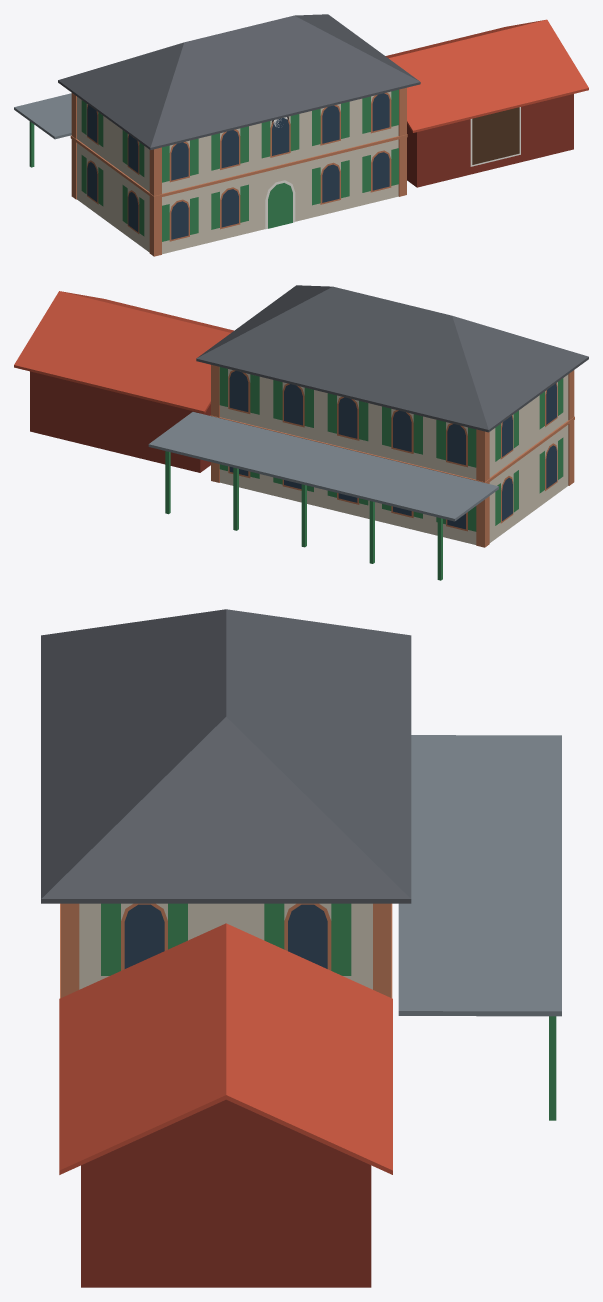
Rendered from gare_village.glb.
3 renders of one model, top to bottom at view 1: azimuth 30°, elevation 25°; view 2: azimuth 150°, elevation 25°; view 3: azimuth 270°, elevation 25°, orthographic. The views are drawn at different scales.
Visible parts, largest first — view 1: gare_village; view 2: gare_village; view 3: gare_village.
Part boxes in pixels (bbox=[...]): gare_village: bbox=[14, 14, 588, 256]; gare_village: bbox=[14, 285, 588, 580]; gare_village: bbox=[41, 609, 561, 1287].
Size of the model in its own units: 28.6 by 10.14 by 14.35.
Materials: 1 (1 with a texture image).
